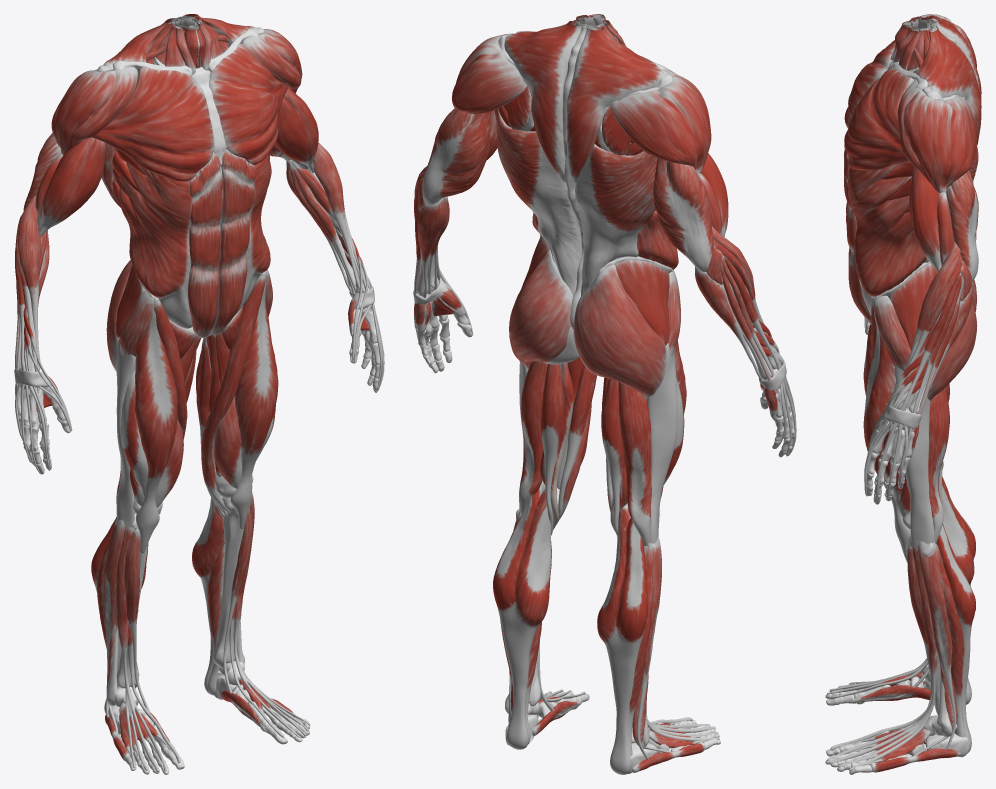
File: diego-training-v3.glb
3 renders of one model, left to right at view 1: azimuth 30°, elevation 25°; view 2: azimuth 150°, elevation 25°; view 3: azimuth 270°, elevation 25°, orthographic. The views are drawn at different scales.
Parts seen in each view (by area): view 1: defaultMat_3, defaultMat_6, material_0, defaultMat_2, defaultMat_0, defaultMat, defaultMat_11, defaultMat_10, defaultMat_1, defaultMat_12, defaultMat_8, defaultMat_5 (+2 smaller); view 2: defaultMat_8, defaultMat_10, defaultMat_12, defaultMat_9, defaultMat_11, defaultMat, defaultMat_0, material_0, material_1, defaultMat_2, defaultMat_1, defaultMat_4 (+2 smaller); view 3: defaultMat_3, defaultMat_2, material_0, defaultMat_0, defaultMat_11, defaultMat_10, defaultMat, defaultMat_12, defaultMat_8, defaultMat_6, material_1, defaultMat_9 (+2 smaller).
Part boxes in pixels (x1,y1,x2,y2): defaultMat_3: (91,43,287,337); defaultMat_6: (121,271,278,553); material_0: (15,27,380,774); defaultMat_2: (103,492,310,772); defaultMat_0: (15,142,384,473); defaultMat: (23,88,318,236); defaultMat_11: (51,29,302,155); defaultMat_10: (91,468,224,714); defaultMat_1: (169,305,243,512); defaultMat_12: (106,260,272,371); defaultMat_8: (101,14,256,222); defaultMat_5: (136,16,230,74); defaultMat_8: (494,21,664,295); defaultMat_10: (493,488,652,774); defaultMat_12: (509,236,680,398); defaultMat_9: (519,361,651,546); defaultMat_11: (452,33,711,173); defaultMat: (422,108,728,271); defaultMat_0: (414,166,796,455); material_0: (414,31,794,773); material_1: (413,14,786,543); defaultMat_2: (508,511,719,772); defaultMat_1: (557,357,627,523); defaultMat_4: (414,268,789,419); defaultMat_3: (844,40,926,324); defaultMat_2: (827,541,960,772); material_0: (825,14,969,774); defaultMat_0: (864,241,973,503); defaultMat_11: (897,14,976,193); defaultMat_10: (935,476,975,752); defaultMat: (909,143,978,281); defaultMat_12: (873,263,976,400); defaultMat_8: (880,15,981,262); defaultMat_6: (863,296,910,562); material_1: (884,21,959,548); defaultMat_9: (928,383,949,543).
Bounding box in the file's own units: 0.861 × 1.62 × 0.3226.
Materials: 15 (13 with a texture image).
